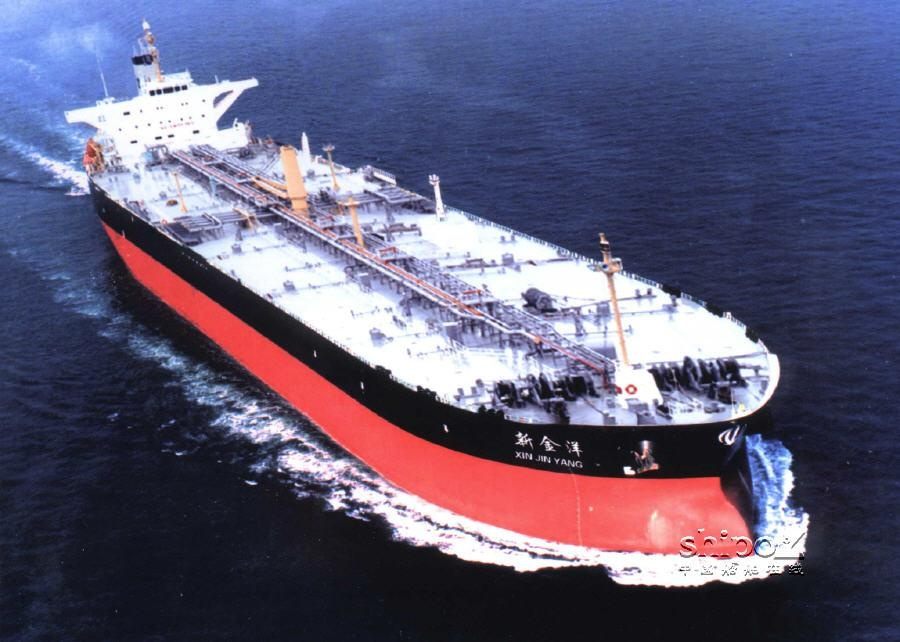Cargoship: (59, 17, 783, 558)
